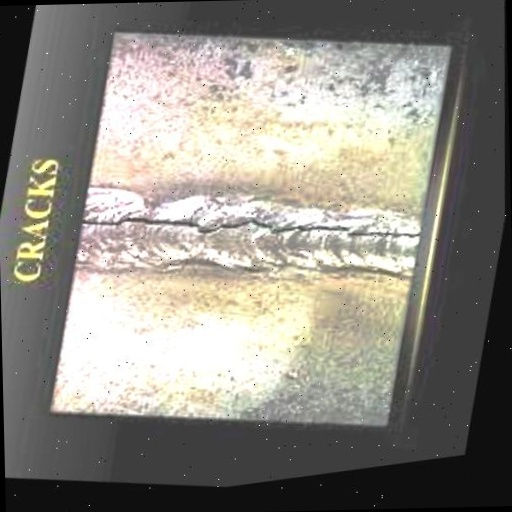crack: (74, 153, 424, 301)
